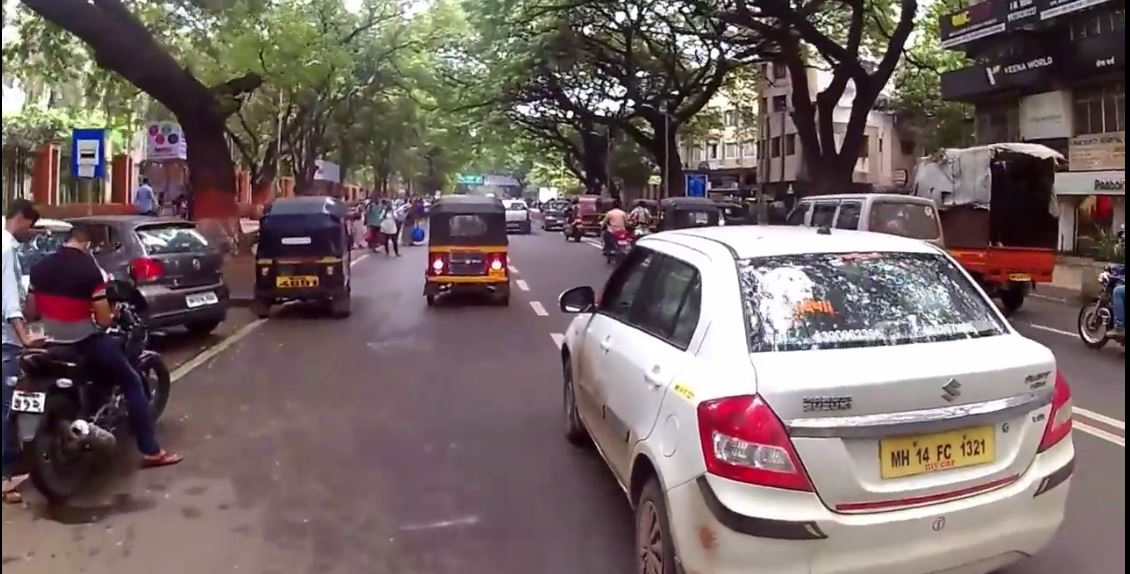autorickshaw: (250, 185, 358, 325), (415, 183, 517, 320), (575, 189, 609, 243)
car: (552, 220, 1083, 574), (83, 206, 245, 345), (507, 194, 535, 240)
